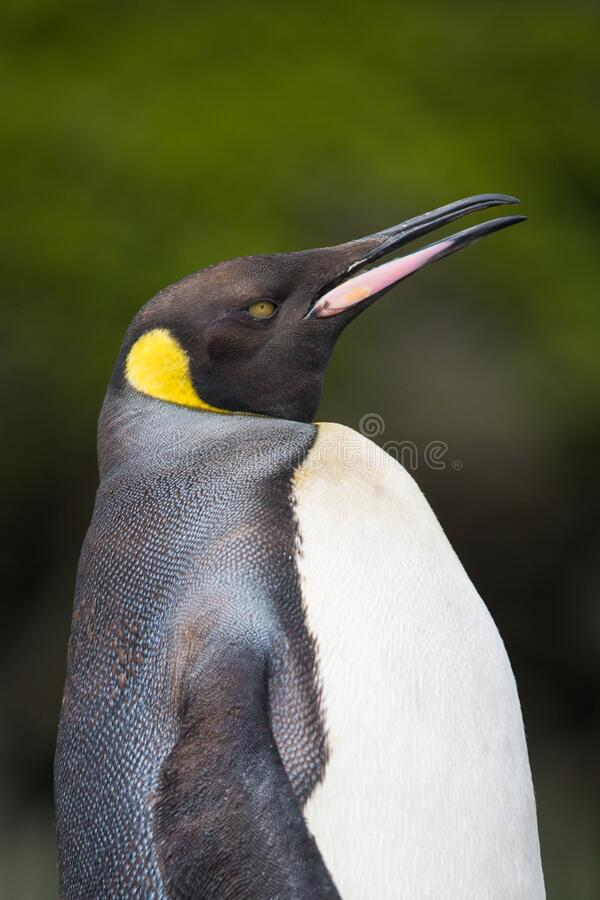king: (43, 188, 581, 900)
